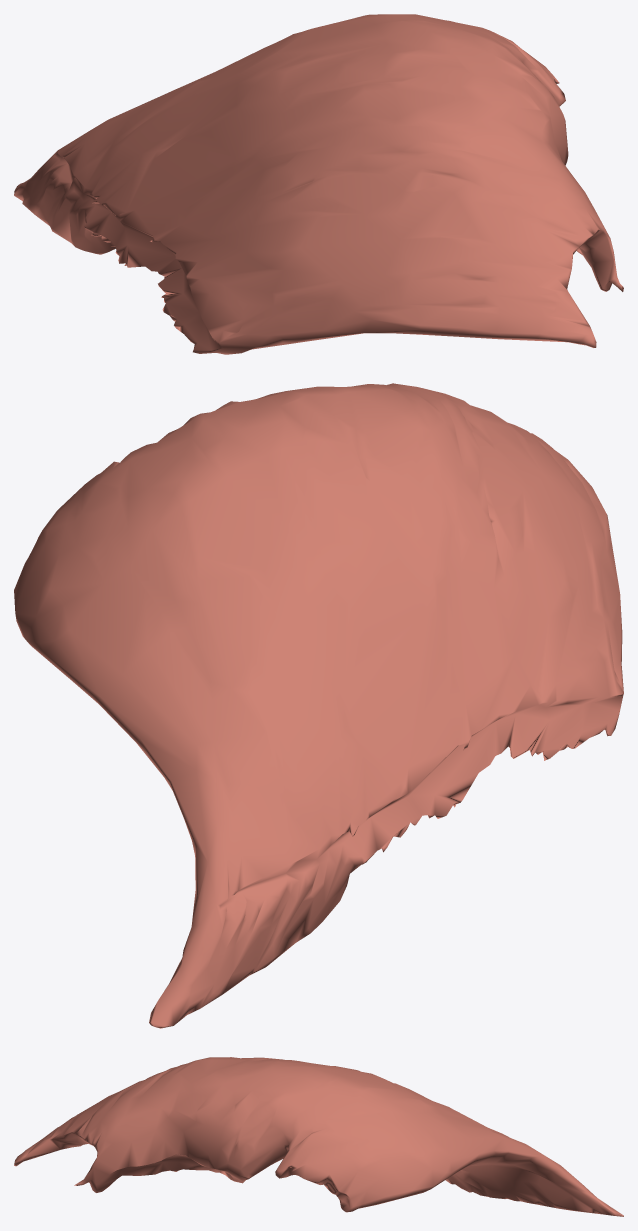
3 renders of one model, top to bottom at view 1: azimuth 30°, elevation 25°; view 2: azimuth 150°, elevation 25°; view 3: azimuth 270°, elevation 25°, orthographic. The views are drawn at different scales.
Parts seen in each view (by area): view 1: 右侧臀大肌; view 2: 右侧臀大肌; view 3: 右侧臀大肌.
Boxes of the visible parts, x1,y1,x2,y2 form: 右侧臀大肌: (14, 14, 623, 354); 右侧臀大肌: (14, 383, 623, 1028); 右侧臀大肌: (14, 1057, 623, 1216).
Size of the model in its own units: 0.2142 by 0.143 by 0.3971.
